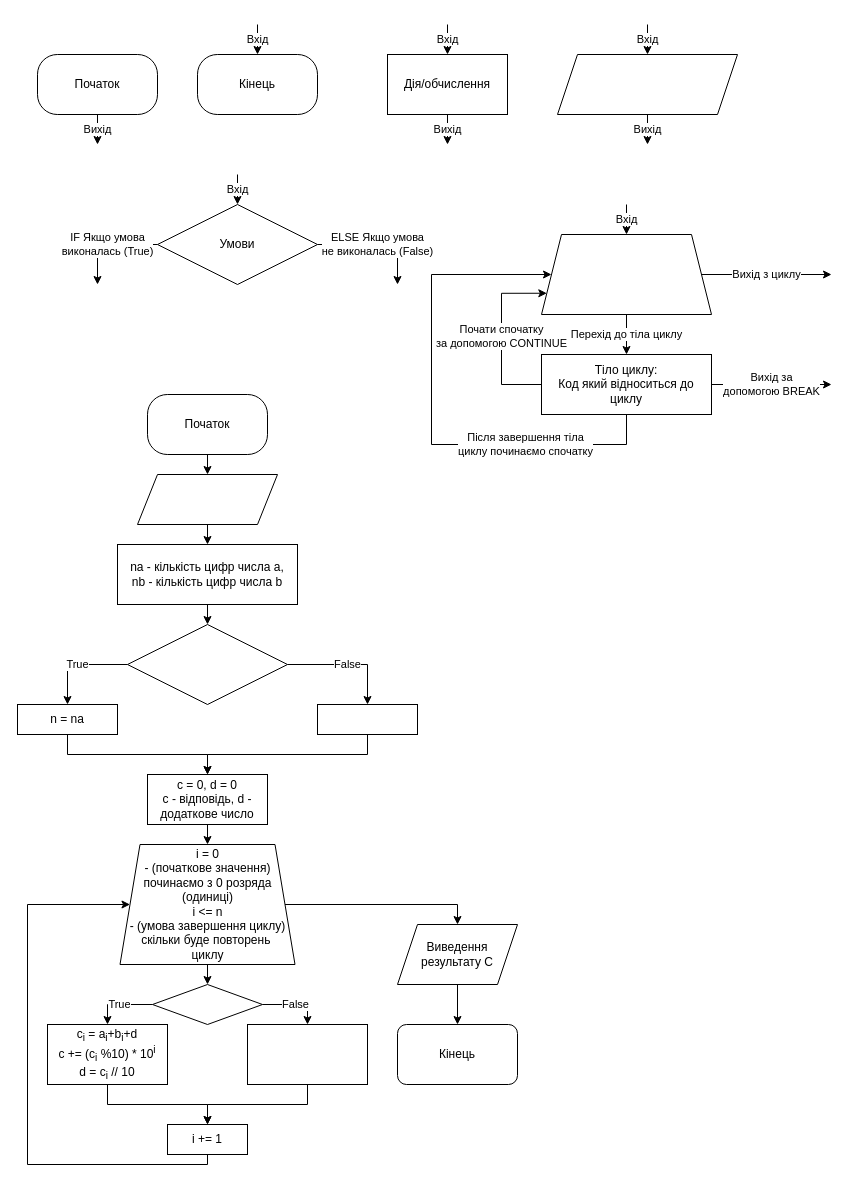
Image size: 857x1190. Some labels were removed from this diagram. Here are the shapes that lost their labels. From the top down, the centre of each, then its label:
the point at 647,84: Введення та виведення інформації (взаємодія з користучем)
the point at 626,274: Цикл: - початкове значення (index) - умова завершення циклу
the point at 207,499: Ввести a та b
the point at 207,664: na > nb
the point at 367,719: n = nb
the point at 207,1004: a i +b i +d > 9
the point at 307,1054: c += (a i +b i +d)*10 i d = 0
